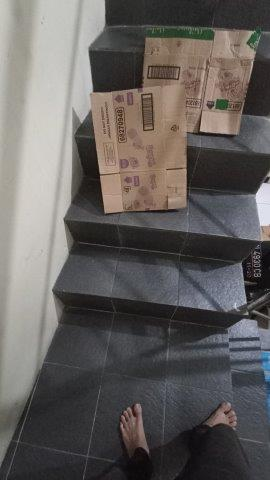kardus: (146, 27, 259, 134), (92, 87, 187, 212)
